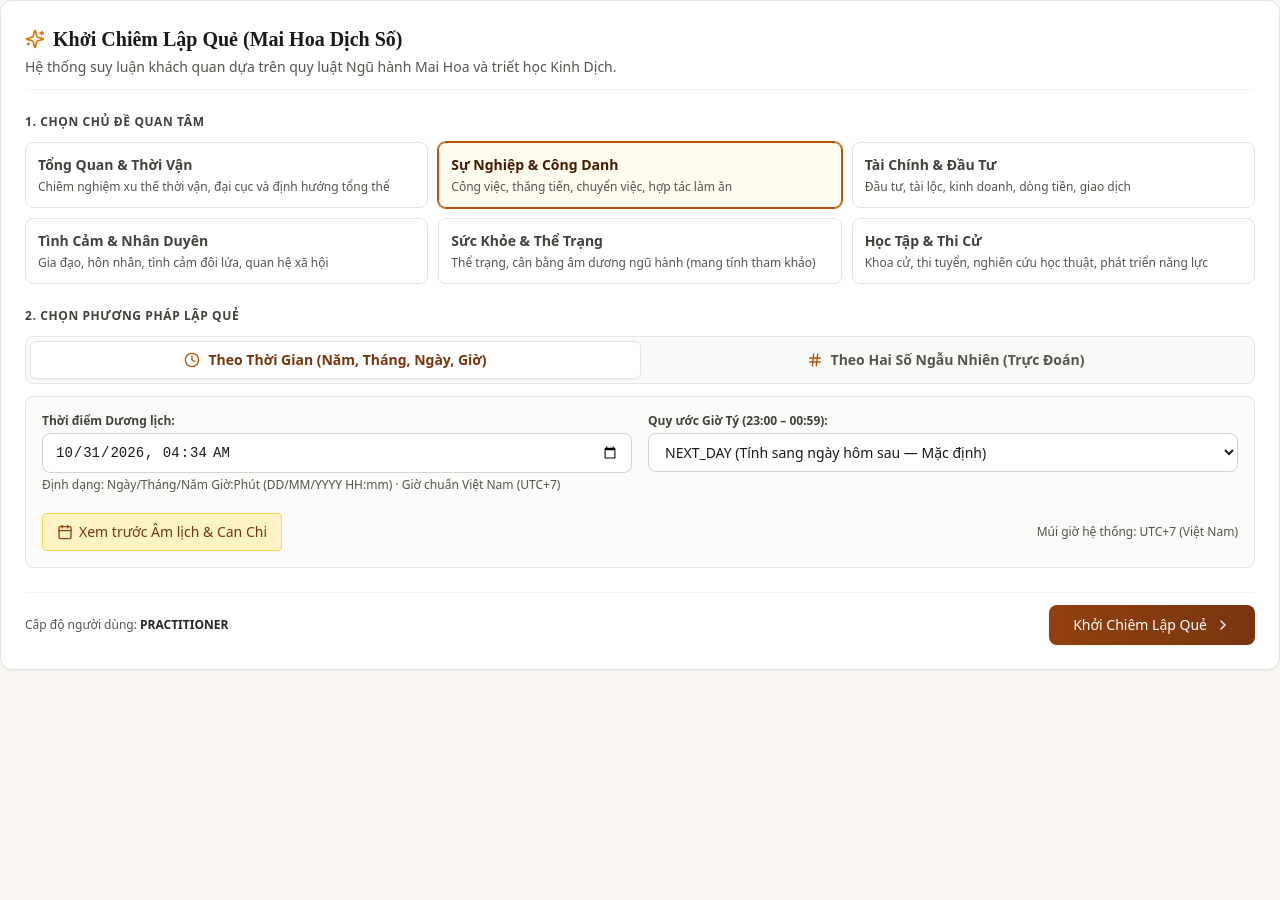
Test: Đợt 2A: Nhãn, Chế độ Kỹ thuật, An toàn & Accessibility › 2. Disclaimer An Toàn & Checkbox Xác Nhận (DivinationForm Safety Gate) › hiển thị cảnh báo ngay khi chọn HEALTH và chặn nút gieo quẻ cho đến khi tick xác nhận
The width and height of the screenshot is (1280, 900).
Note: Click chọn Sức Khỏe
Click the button "Sức Khỏe & Thể Trạng": click(640, 251) [438,218,842,284]
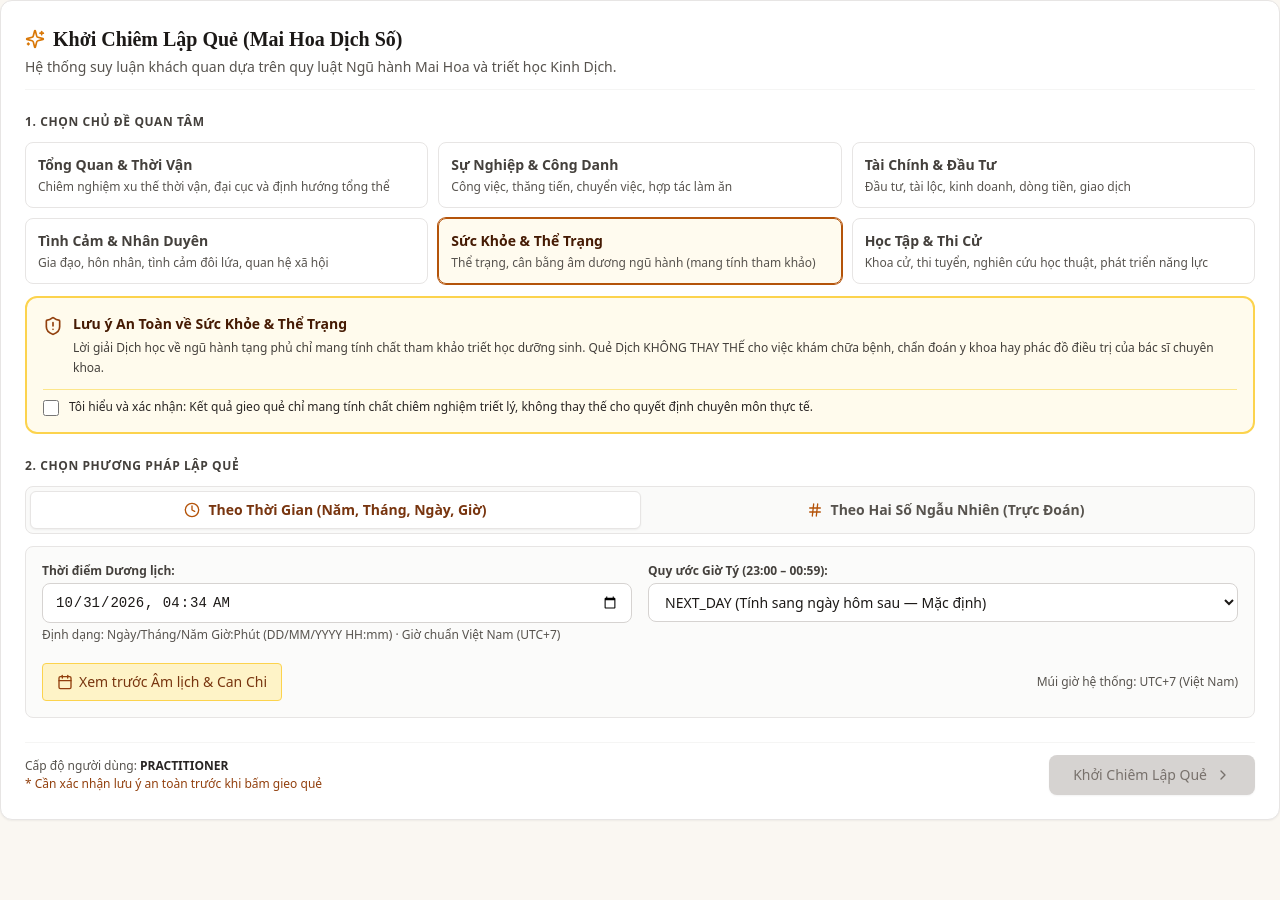
Expected: the heading "Lưu ý An Toàn về Sức Khỏe & Thể Trạng" is shown, [73,314,347,333]
Expected: the text "KHÔNG THAY THẾ cho việc khám chữa bệnh" is shown, [73,339,1214,376]
Expected: the button "Khởi Chiêm Lập Quẻ" is disabled, [1049,755,1255,795]
Click the checkbox: click(51, 408) [43,400,59,416]
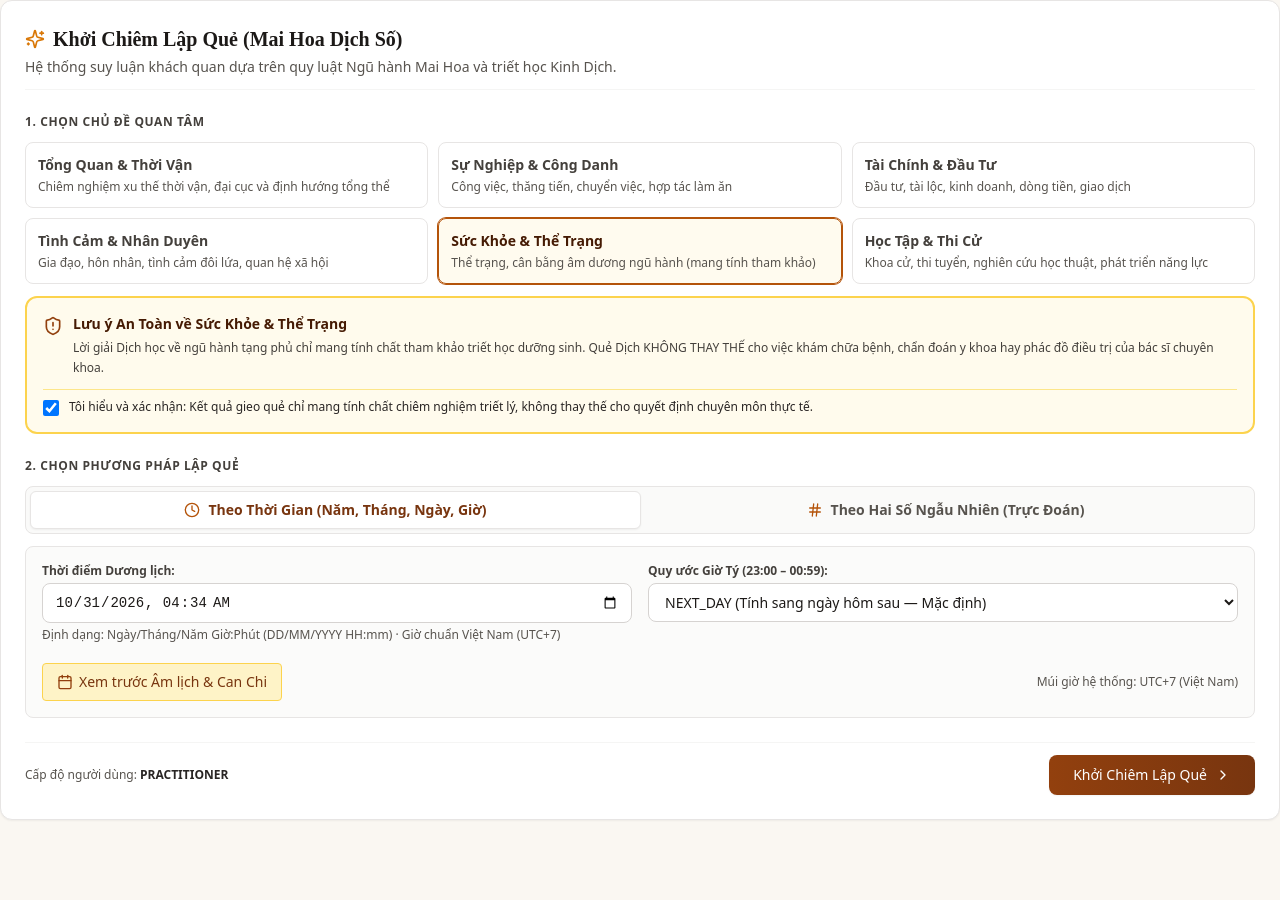
Expected: the button "Khởi Chiêm Lập Quẻ" is enabled, [1049,755,1255,795]
